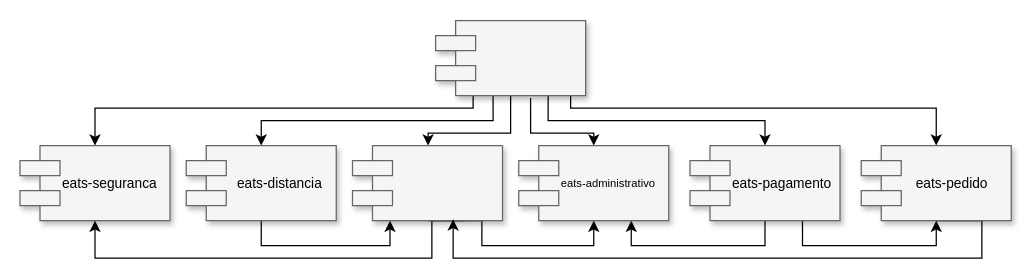
Image size: 1031x279. Some labels were removed from this diagram. Here are the shapes that lost their labels. From the top down, the centre of each, then its label:
At point (511, 59): "eats-application".
At point (428, 184): "eats-restaurante".
